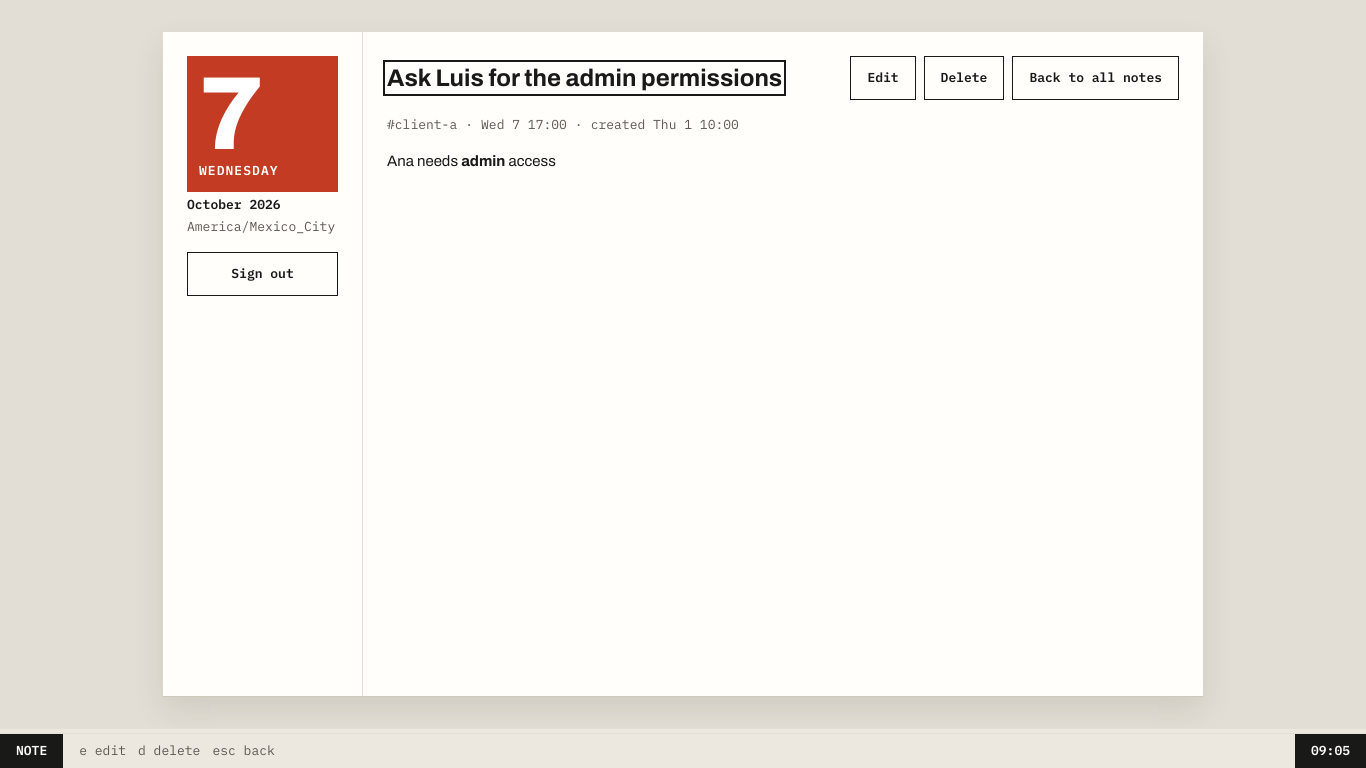
Test: the Edit button opens it too (the only way on touch)
Check: the heading "Ask Luis for the admin permissions" is shown, box [387,64,782,92]
Click the button "Edit" at [883, 78], box [850,56,916,100]
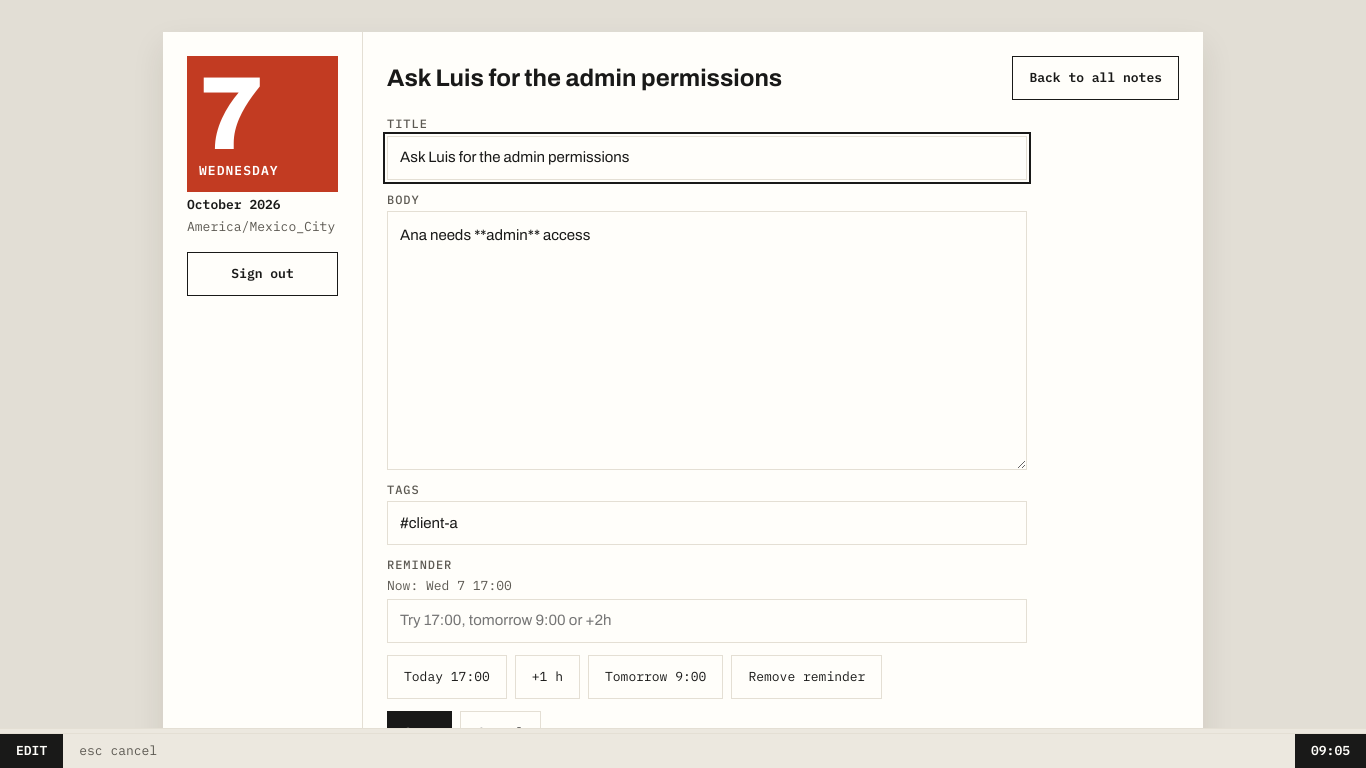
Check: the field labelled "Title" is shown, box [387,136,1027,180]
